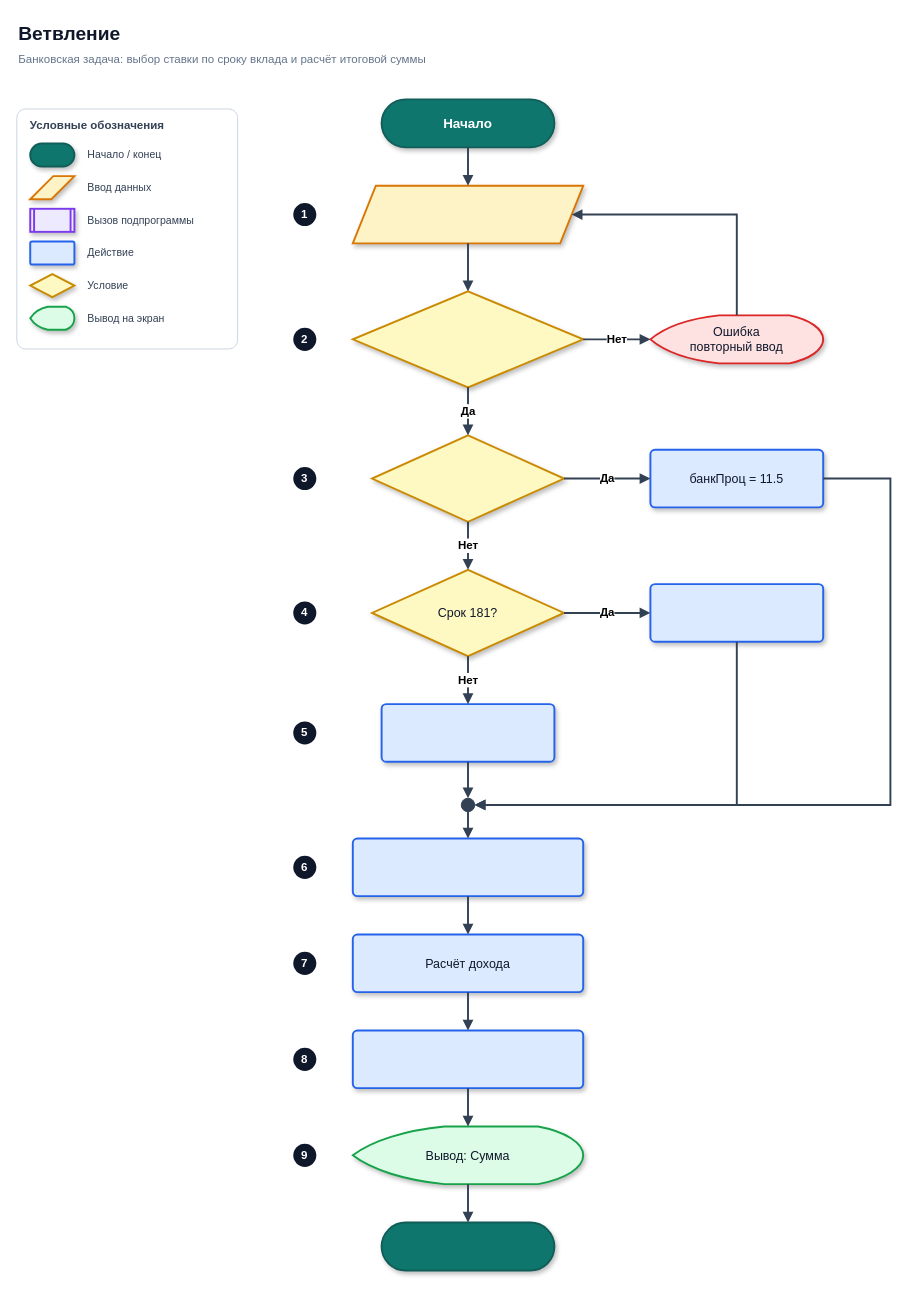
This 916x1294 diagram has some shape labels left out. Each missing label, with the centre of its shape:
"банкПроц = 11.75" goes at pixel 737 614.
"банкПроц = 12.5" goes at pixel 468 734.
"Ввод суммы и срока" goes at pixel 468 215.
"Конец" goes at pixel 468 1247.
"Расчёт процентов одного дня" goes at pixel 468 868.
"Срок 91?" goes at pixel 468 479.
"Срок правильный?" goes at pixel 468 340.
"Сумма = сумма + доход" goes at pixel 468 1060.
